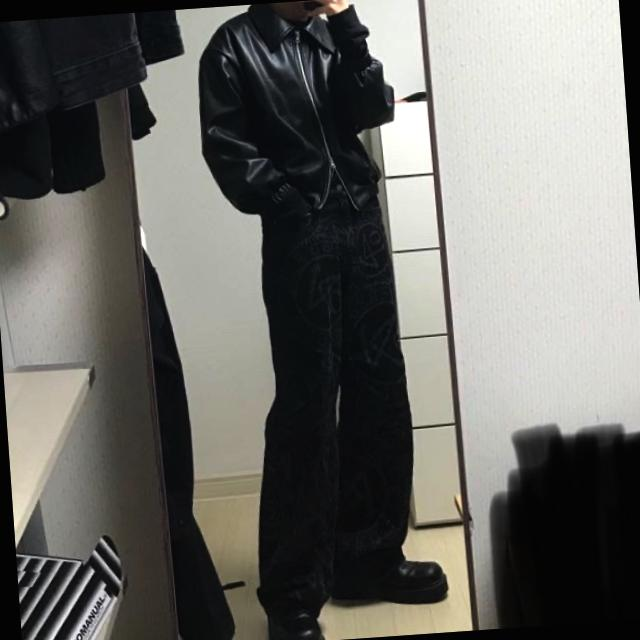denimpants: (235, 175, 433, 638)
jacket: (191, 0, 401, 219)
